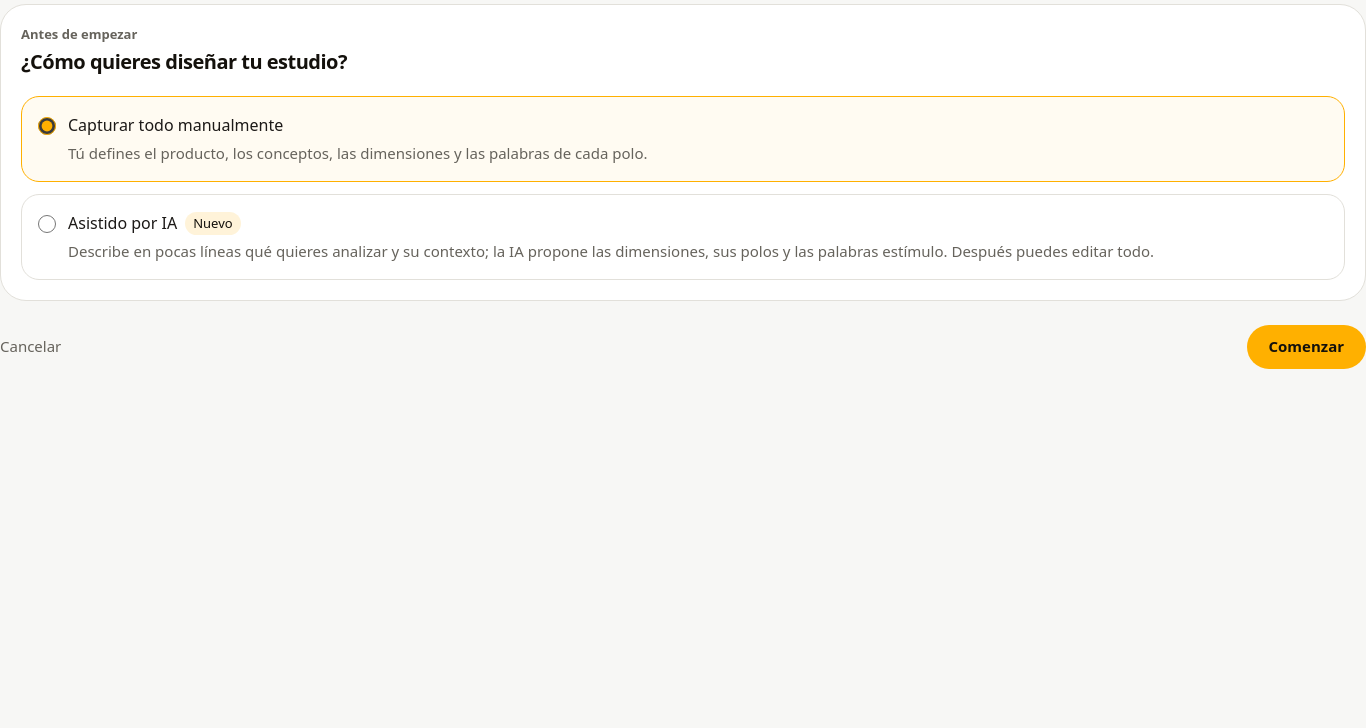
Scenario: Wizard IAT › bloquea cada paso hasta que sus datos sean válidos
The width and height of the screenshot is (1366, 728).
Click the button "Comenzar" at {"x": 1306, "y": 347}, box [1246,325,1365,369]
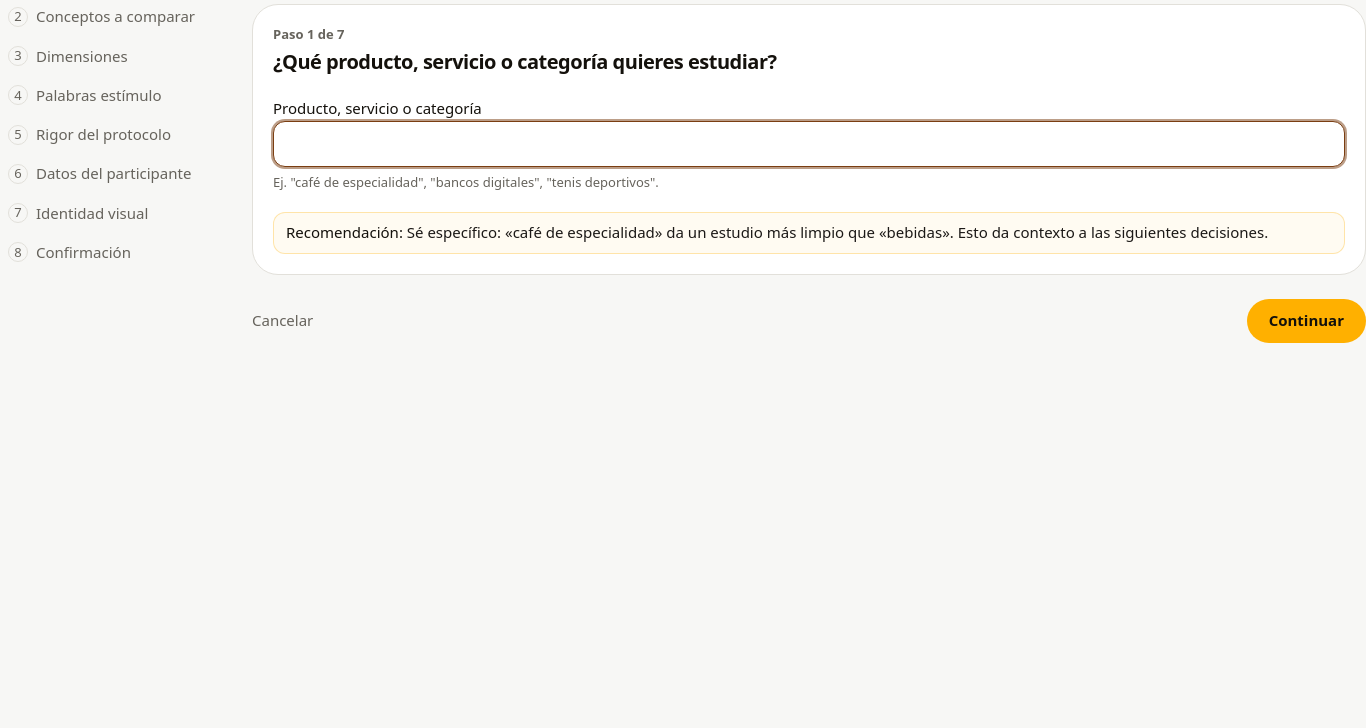
Click the button "Continuar" at {"x": 1306, "y": 320}, box [1247,298,1365,342]
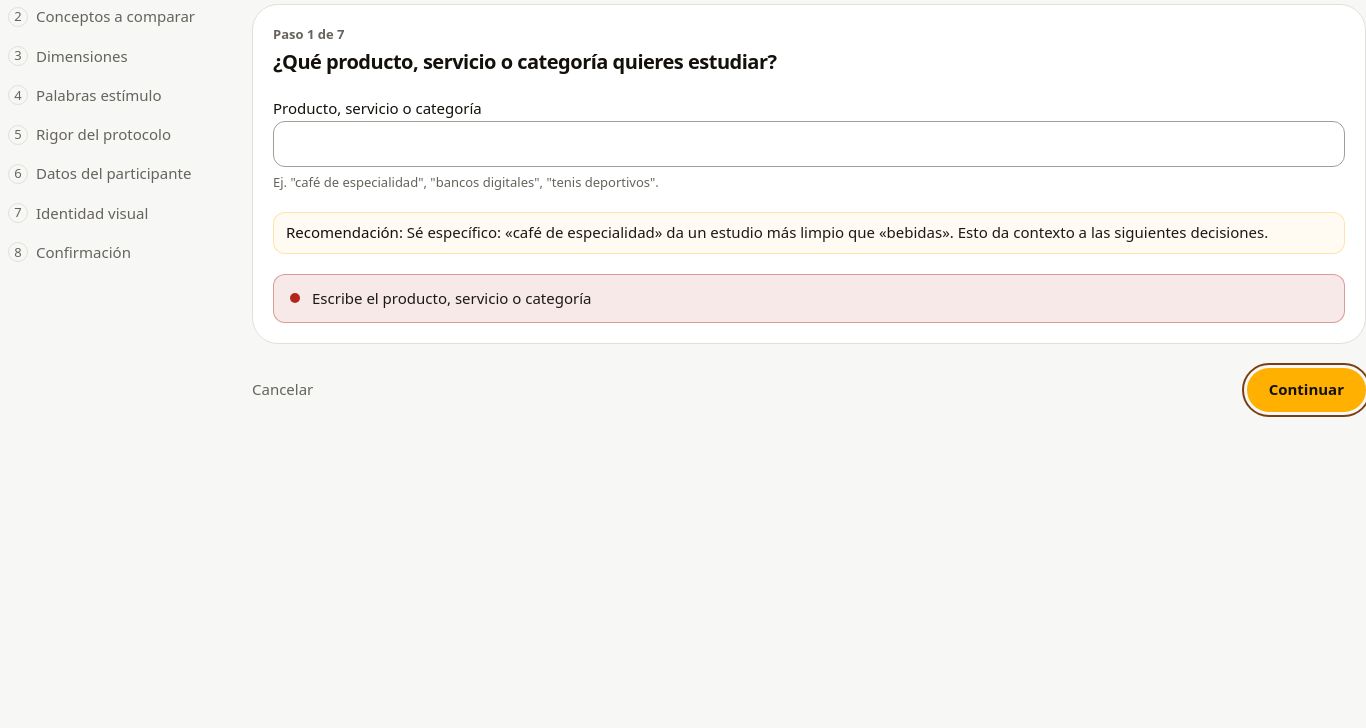
Expected: the list item "Escribe el producto, servicio o categoría" is shown, [312,286,592,310]
Type "café" into the field labelled "Producto, servicio o categoría" at {"x": 809, "y": 144}, box [273,121,1345,167]
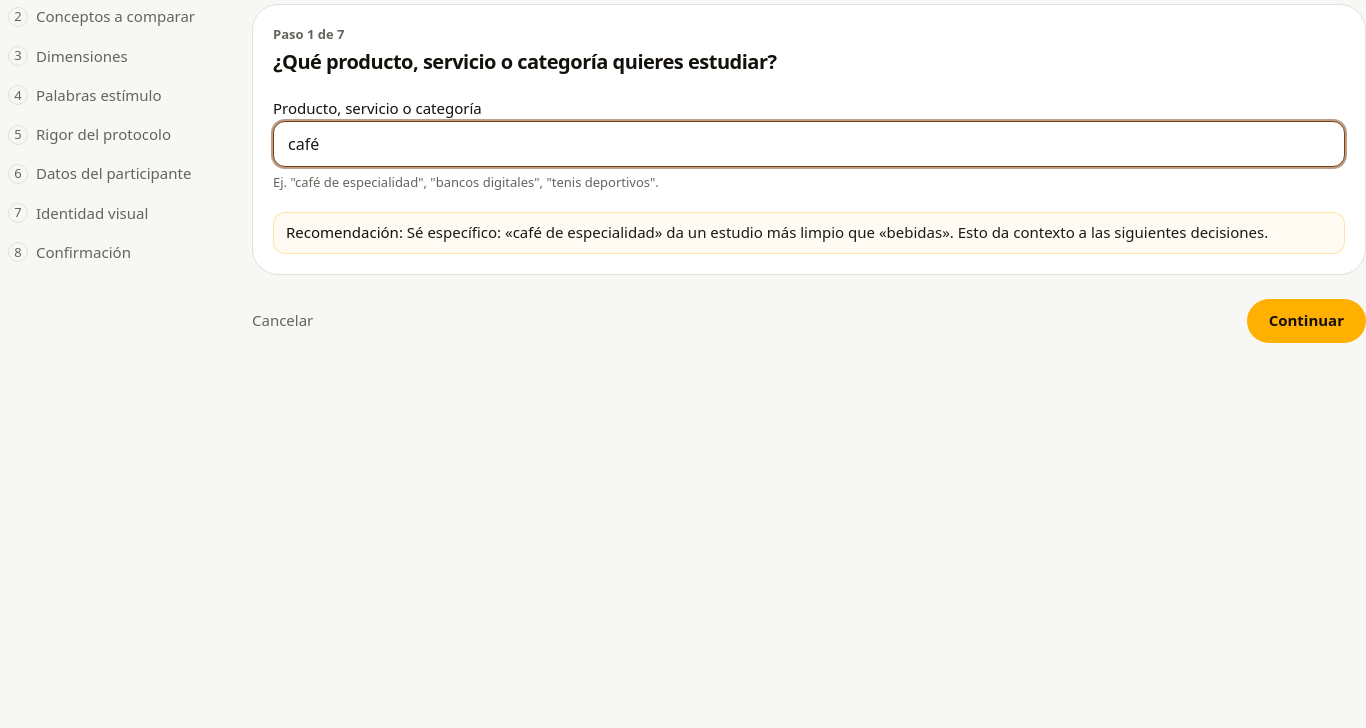
Click the button "Continuar" at {"x": 1306, "y": 320}, box [1247,298,1365,342]
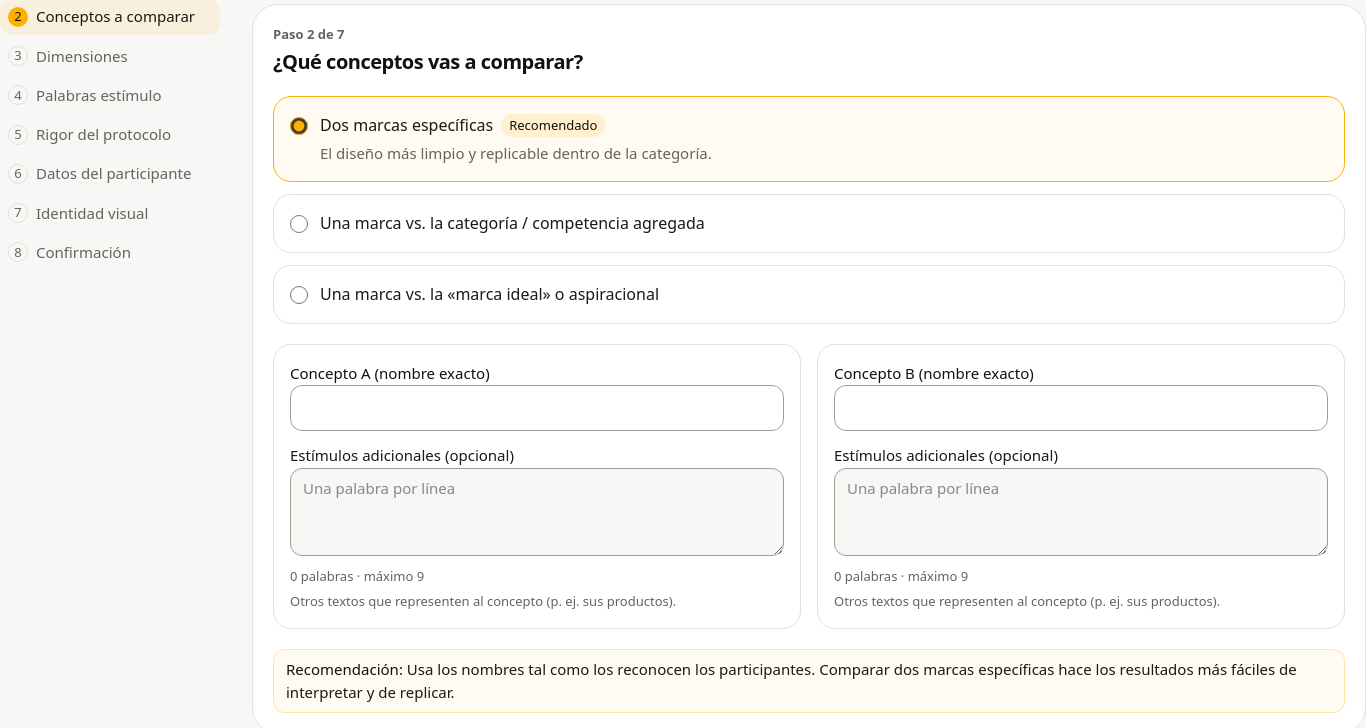
Type "Marca A" into the field labelled "Concepto A (nombre exacto)" at {"x": 537, "y": 408}, box [290,385,784,431]
Type "marca á" into the field labelled "Concepto B (nombre exacto)" at {"x": 1081, "y": 408}, box [834,385,1328,431]
(page scrolled)
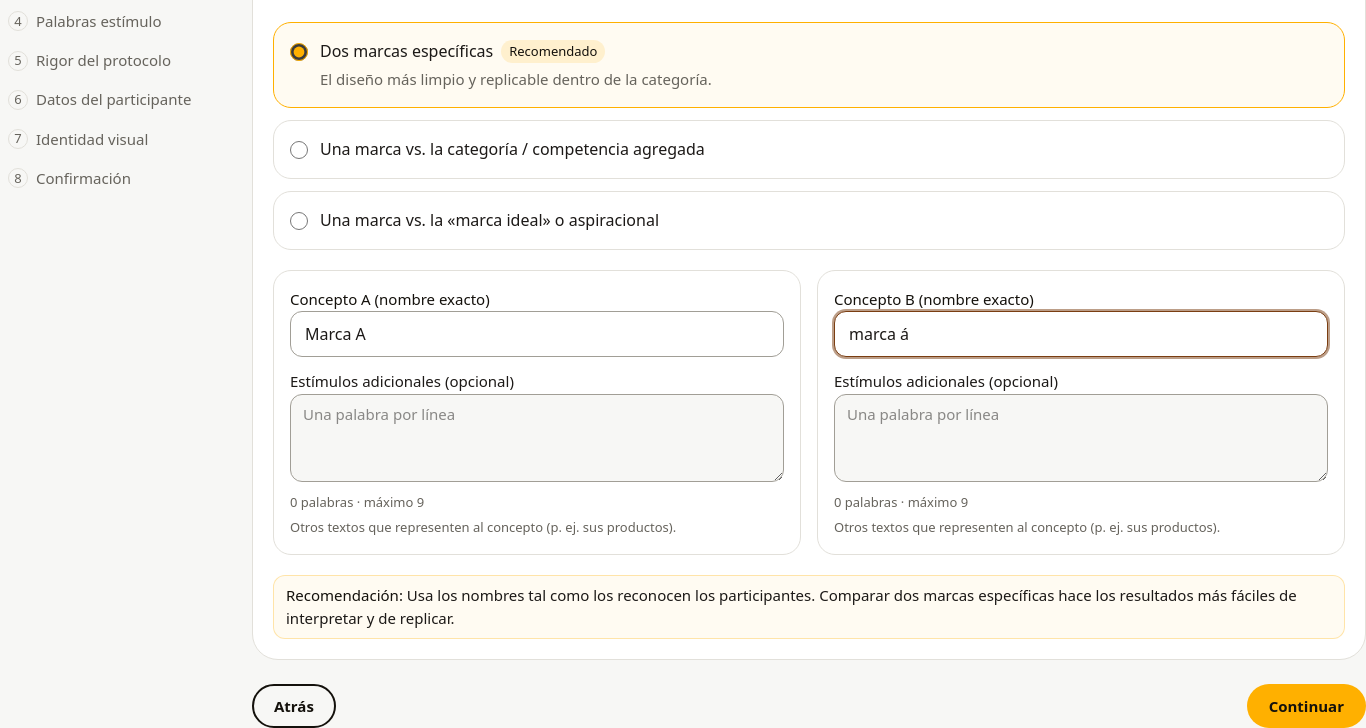
Click the button "Continuar" at {"x": 1306, "y": 706}, box [1247,684,1365,727]
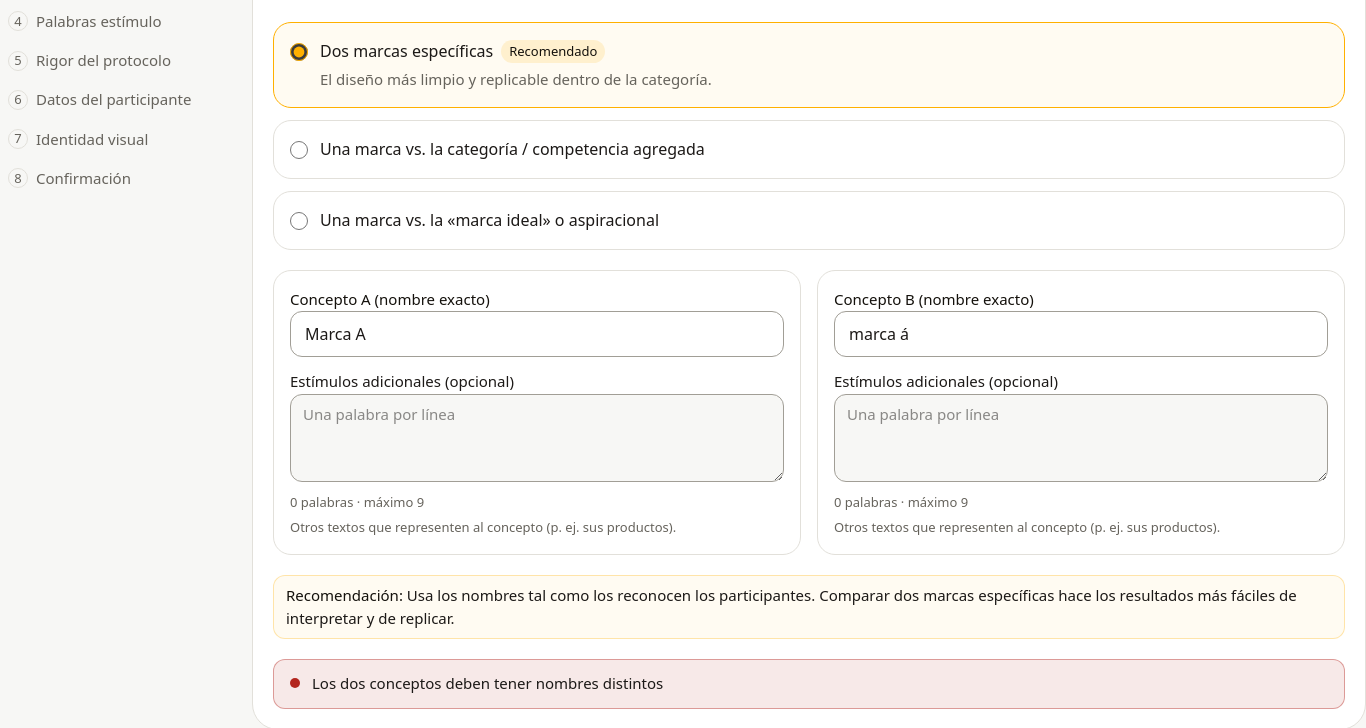
Expected: the list item "Los dos conceptos deben tener nombres distintos" is shown, [312,672,663,696]
